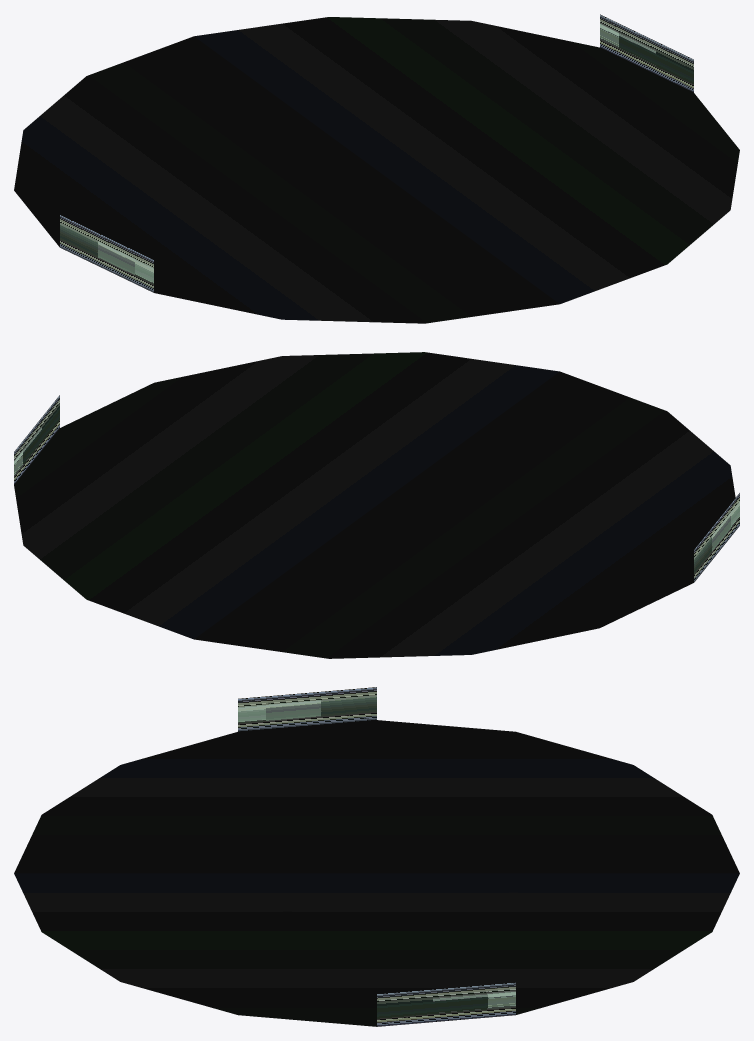
File: sky-caves-derolle.obj
3 views of the same model, one above another, from view 1: azimuth 30°, elevation 25°; view 2: azimuth 150°, elevation 25°; view 3: azimuth 270°, elevation 25° (orthographic).
Visible parts, largest first — view 1: mesh_sky_0; view 2: mesh_sky_0; view 3: mesh_sky_0.
Part boxes in pixels (bbox=[...]): mesh_sky_0: bbox=[14, 14, 739, 323]; mesh_sky_0: bbox=[14, 352, 739, 658]; mesh_sky_0: bbox=[14, 687, 739, 1026].
Bounding box in the file's own units: 40000 × 2003 × 40000.
Materials: 1 (1 with a texture image).
